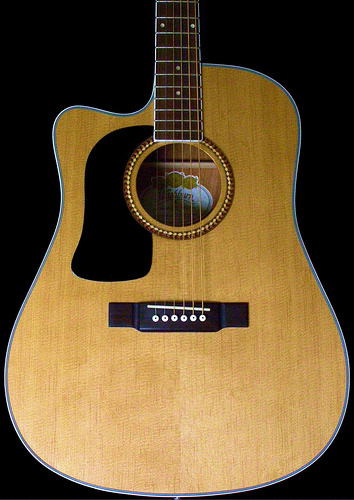guitar: (1, 1, 354, 500)
